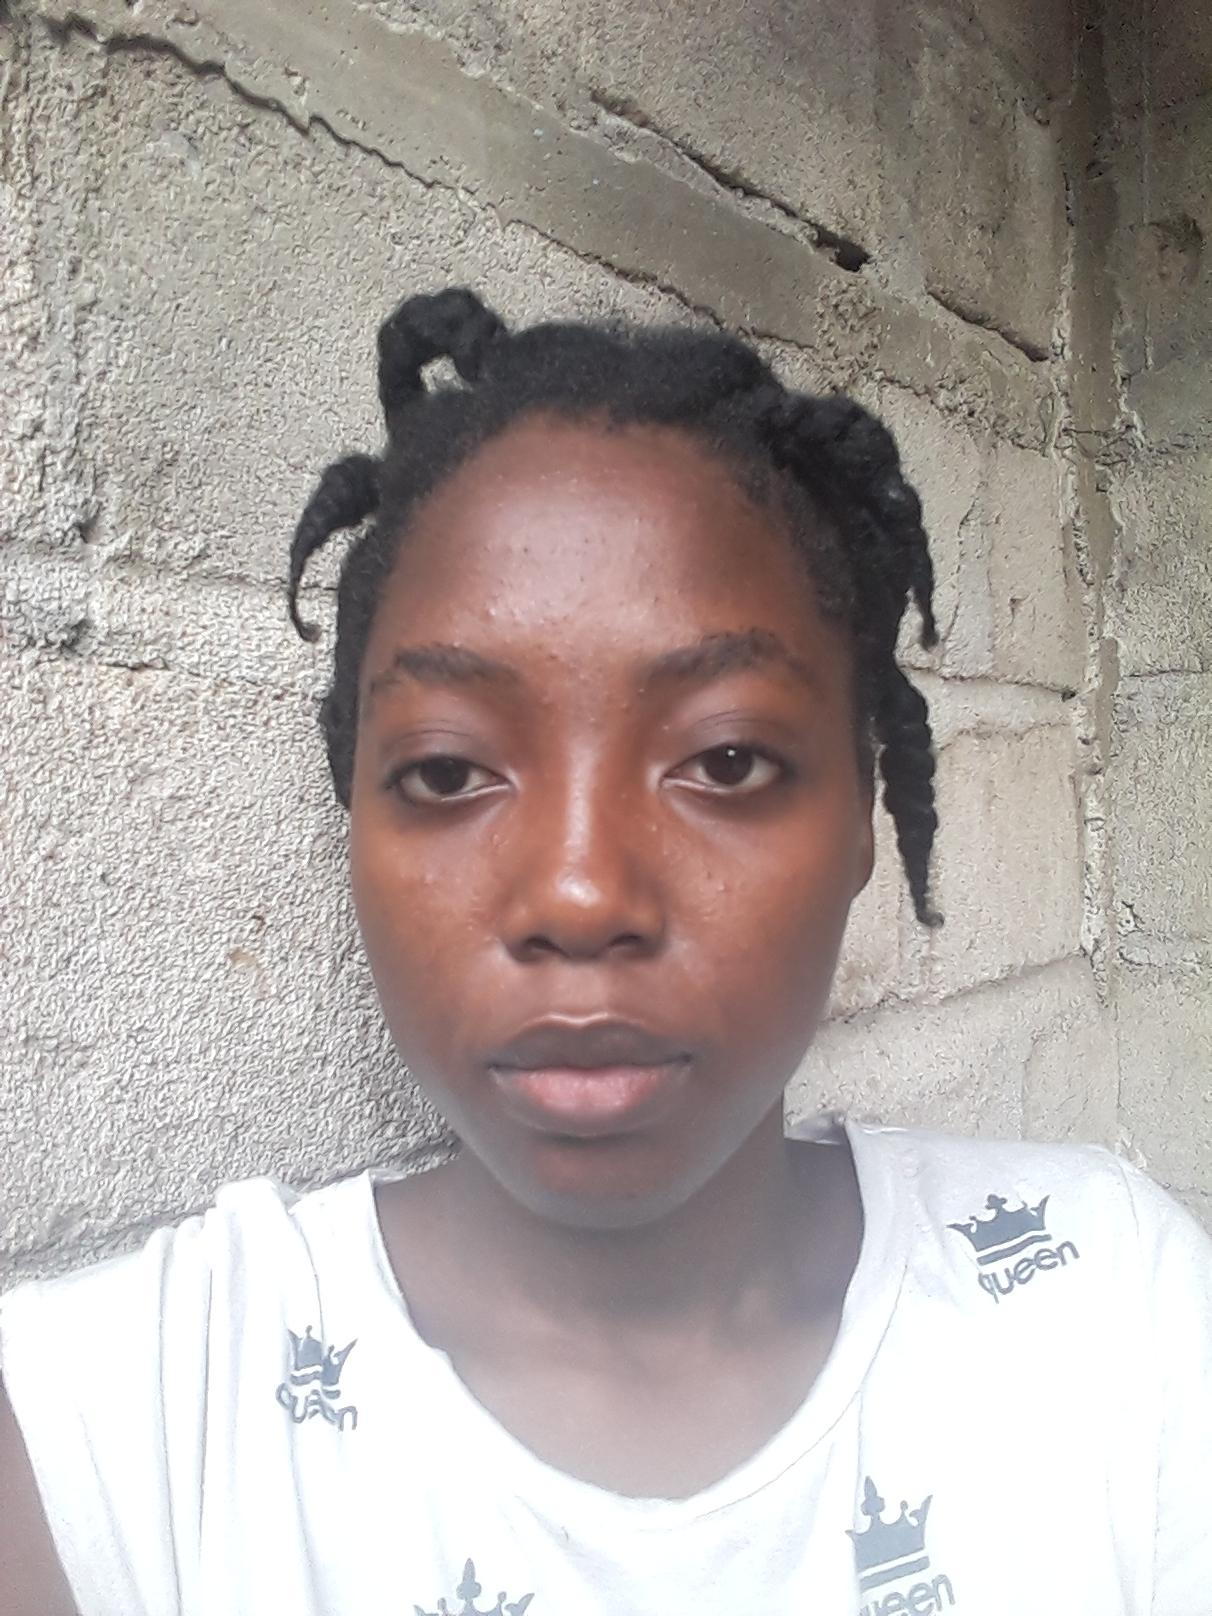Acne: (472, 596, 523, 631), (531, 466, 583, 491), (614, 691, 649, 721), (542, 649, 575, 681), (685, 498, 723, 520), (642, 582, 672, 607), (701, 868, 729, 895), (629, 554, 662, 574), (532, 693, 559, 716), (488, 831, 512, 855), (484, 463, 513, 482), (635, 509, 658, 532), (643, 817, 667, 839), (699, 906, 721, 930), (598, 459, 628, 477), (489, 498, 513, 515), (415, 873, 443, 888), (479, 540, 502, 557), (449, 636, 471, 654), (497, 637, 521, 651), (461, 920, 477, 939), (483, 930, 494, 949), (738, 939, 754, 952), (661, 846, 673, 860), (616, 790, 626, 805)
